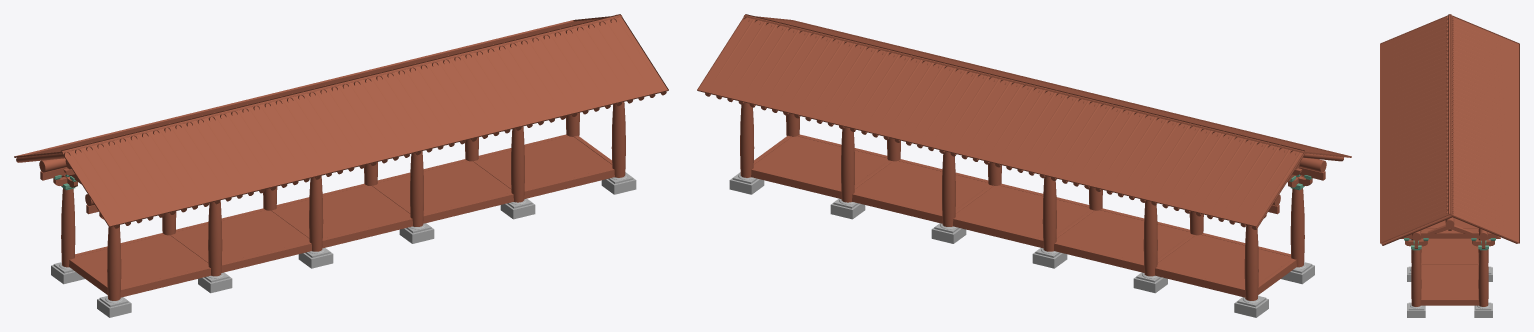
The model's file is 121423_Arcade_1.fbx.
The picture shows the model from 3 angles, left to right: view 1: azimuth 30°, elevation 25°; view 2: azimuth 150°, elevation 25°; view 3: azimuth 270°, elevation 25°; orthographic projection. The views are drawn at different scales.
Visible parts, largest first — view 1: Plane.001, Beam_Bracket.010, Rafter_Arcade.001, Arcade_3m.006|Column_Drum_3.003|Dupli|0.2, Arcade_3m.006|Column_Drum_3.003|Dupli|0.2.1, Arcade_3m.005|Column_Drum_3.003|Dupli|0.2.1, Arcade_3m.001|Column_Drum_3.003|Dupli|0.2.1, Arcade_3m.003|Column_Drum_3.003|Dupli|0.2.1, Arcade_3m.004|Column_Drum_3.003|Dupli|0.2.1, Arcade_3m.002|Column_Drum_3.003|Dupli|0.2.1, Arcade_3m.006|Column_Base_Small|Dupli|0.0.1, Arcade_3m.004|Column_Base_Small|Dupli|0.0.1 (+5 smaller); view 2: Plane.001, Beam_Bracket.010, Rafter_Arcade.001, Arcade_3m.006|Column_Drum_3.003|Dupli|0.2.1, Arcade_3m.006|Column_Drum_3.003|Dupli|0.2, Arcade_3m.005|Column_Drum_3.003|Dupli|0.2, Arcade_3m.001|Column_Drum_3.003|Dupli|0.2, Arcade_3m.004|Column_Drum_3.003|Dupli|0.2, Arcade_3m.003|Column_Drum_3.003|Dupli|0.2, Arcade_3m.002|Column_Drum_3.003|Dupli|0.2, Arcade_3m.006|Column_Base_Small|Dupli|, Arcade_3m.004|Column_Base_Small|Dupli| (+5 smaller); view 3: Plane.001, Rafter_Arcade.001, Beam_Bracket.010, Arcade_3m.004|Column_Drum_3.003|Dupli|0.2, Arcade_3m.004|Column_Drum_3.003|Dupli|0.2.1, Arcade_3m.004|Bracket_BeamDiagonal.003|Dupli|5, Arcade_3m.004|Bracket_Beam|Dupli|9, Arcade_3m.004|Column_Base_Small|Dupli|, Arcade_3m.004|Column_Base_Small|Dupli|0.0.1, Arcade_3m.004|Arcade_CrossBeam|Dupli|7, Arcade_3m.003|Bracket_Beam|Dupli|9, Purlin.007 (+2 smaller).
Part boxes in pixels (x1,y1,x2,y2): Plane.001: (14,14,668,227); Beam_Bracket.010: (74,134,614,297); Rafter_Arcade.001: (16,14,666,228); Arcade_3m.006|Column_Drum_3.003|Dupli|0.2: (61,188,75,267); Arcade_3m.006|Column_Drum_3.003|Dupli|0.2.1: (107,226,121,300); Arcade_3m.005|Column_Drum_3.003|Dupli|0.2.1: (208,200,222,276); Arcade_3m.001|Column_Drum_3.003|Dupli|0.2.1: (309,175,323,251); Arcade_3m.003|Column_Drum_3.003|Dupli|0.2.1: (511,126,524,202); Arcade_3m.004|Column_Drum_3.003|Dupli|0.2.1: (611,102,625,177); Arcade_3m.002|Column_Drum_3.003|Dupli|0.2.1: (410,151,423,226); Arcade_3m.006|Column_Base_Small|Dupli|0.0.1: (97,296,131,317); Arcade_3m.004|Column_Base_Small|Dupli|0.0.1: (601,172,636,194); Plane.001: (697,14,1351,227); Beam_Bracket.010: (751,134,1291,297); Rafter_Arcade.001: (705,17,1343,229); Arcade_3m.006|Column_Drum_3.003|Dupli|0.2.1: (1290,188,1304,267); Arcade_3m.006|Column_Drum_3.003|Dupli|0.2: (1244,225,1258,300); Arcade_3m.005|Column_Drum_3.003|Dupli|0.2: (1143,200,1157,276); Arcade_3m.001|Column_Drum_3.003|Dupli|0.2: (1042,176,1056,251); Arcade_3m.004|Column_Drum_3.003|Dupli|0.2: (740,102,754,177); Arcade_3m.003|Column_Drum_3.003|Dupli|0.2: (841,127,854,202); Arcade_3m.002|Column_Drum_3.003|Dupli|0.2: (942,151,955,226); Arcade_3m.006|Column_Base_Small|Dupli|: (1234,296,1268,317); Arcade_3m.004|Column_Base_Small|Dupli|: (729,172,764,194); Plane.001: (1380,14,1519,243); Rafter_Arcade.001: (1381,15,1517,245); Beam_Bracket.010: (1421,218,1478,298); Arcade_3m.004|Column_Drum_3.003|Dupli|0.2: (1478,249,1488,306); Arcade_3m.004|Column_Drum_3.003|Dupli|0.2.1: (1411,249,1421,306); Arcade_3m.004|Bracket_BeamDiagonal.003|Dupli|5: (1401,231,1500,238); Arcade_3m.004|Bracket_Beam|Dupli|9: (1420,298,1479,305); Arcade_3m.004|Column_Base_Small|Dupli|: (1474,302,1492,317); Arcade_3m.004|Column_Base_Small|Dupli|0.0.1: (1407,302,1425,317); Arcade_3m.004|Arcade_CrossBeam|Dupli|7: (1427,225,1472,233); Arcade_3m.003|Bracket_Beam|Dupli|9: (1421,262,1478,264); Purlin.007: (1412,228,1487,240).
Bounding box in the file's own units: 2111 × 540 × 623.
